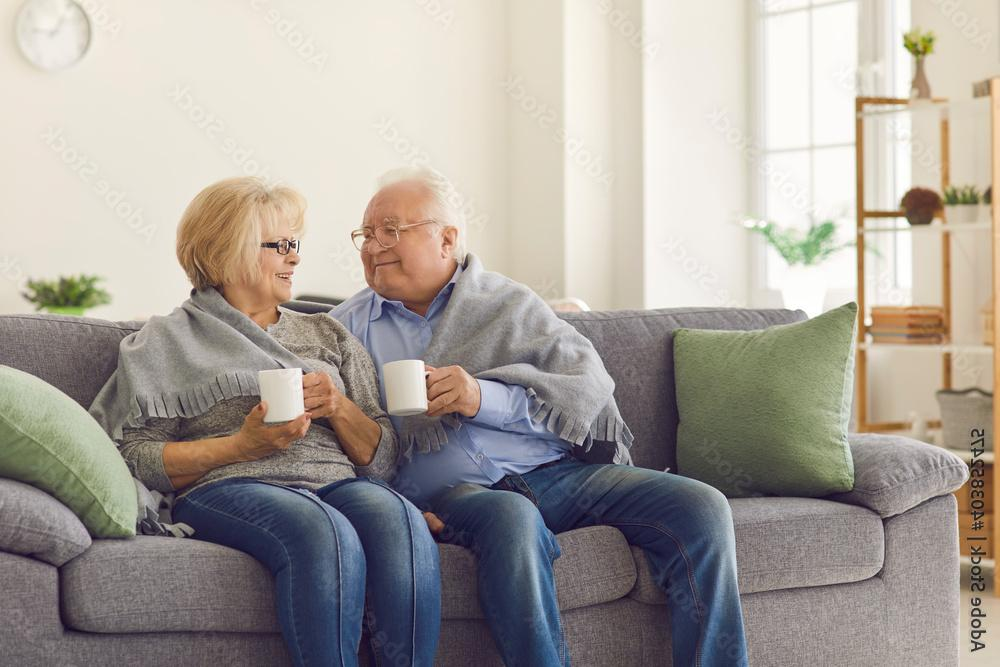blanket: (82, 249, 634, 538)
long sleeve shirt: (324, 264, 573, 499)
sweater: (108, 306, 401, 492)
trousers: (428, 458, 758, 667), (166, 473, 442, 667)
